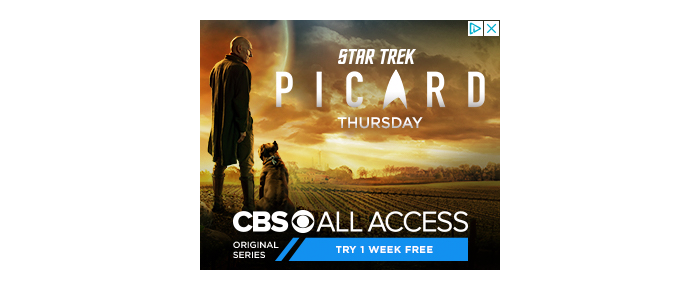fake_button: (448, 15, 505, 46)
